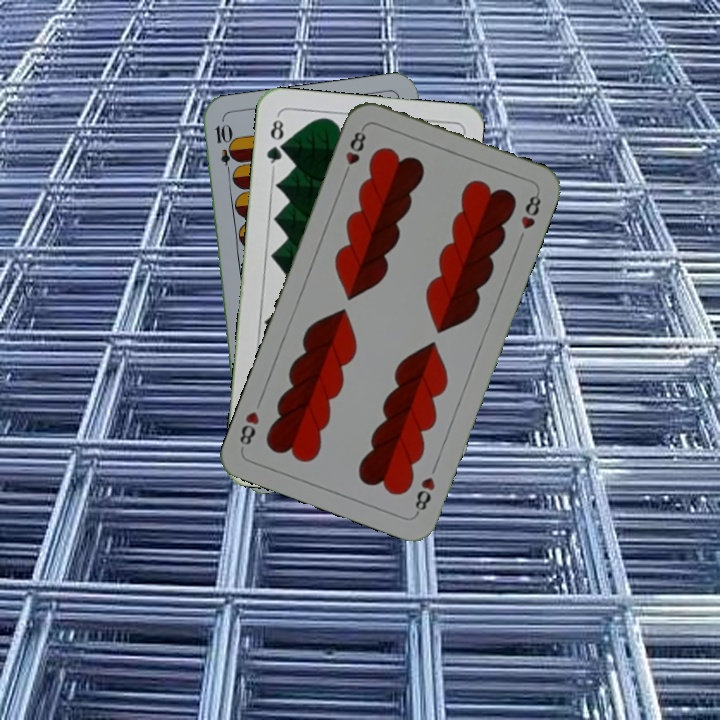E10: (211, 120, 236, 179)
G8: (262, 112, 287, 171)
H8: (339, 124, 369, 181), (410, 473, 438, 517)
